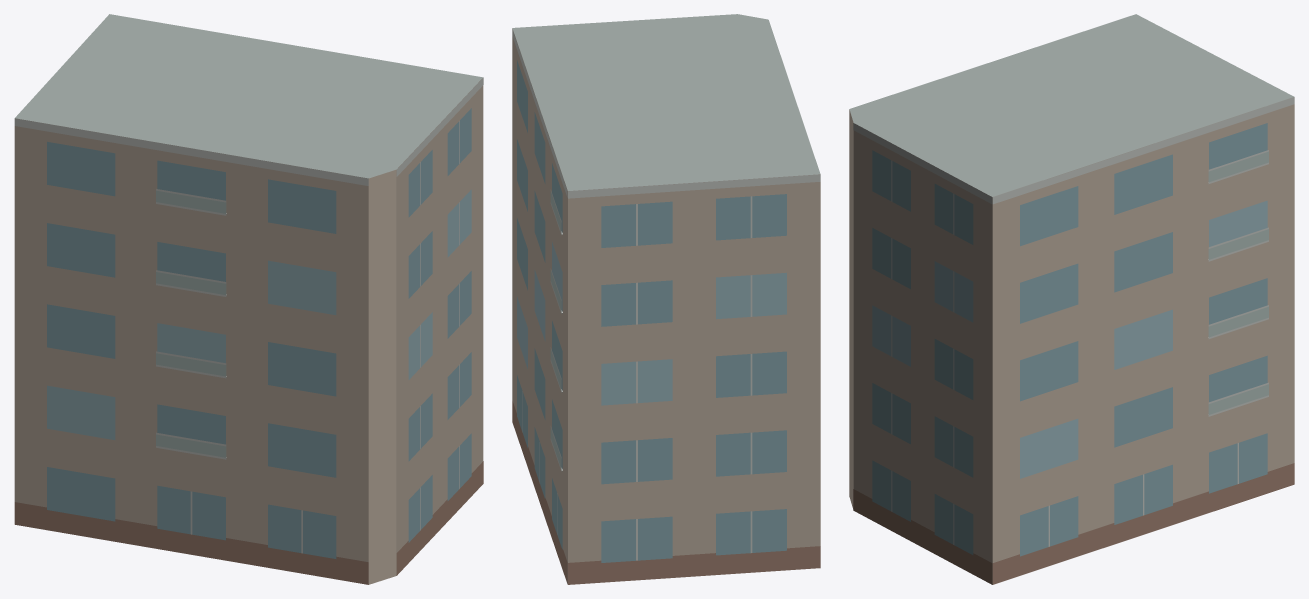
The model's file is survey-upis-32748812.glb.
The picture shows the model from 3 angles, left to right: view 1: azimuth 30°, elevation 25°; view 2: azimuth 150°, elevation 25°; view 3: azimuth 270°, elevation 25°; orthographic projection. The views are drawn at different scales.
Visible parts, largest first — view 1: survey-upis-32748812.tmp; view 2: survey-upis-32748812.tmp; view 3: survey-upis-32748812.tmp.
Part boxes in pixels (<box>): survey-upis-32748812.tmp: <box>14,14,483,584</box>; survey-upis-32748812.tmp: <box>512,14,820,584</box>; survey-upis-32748812.tmp: <box>849,14,1294,584</box>.
Size of the model in its own units: 12.98 by 12.8 by 13.33.
